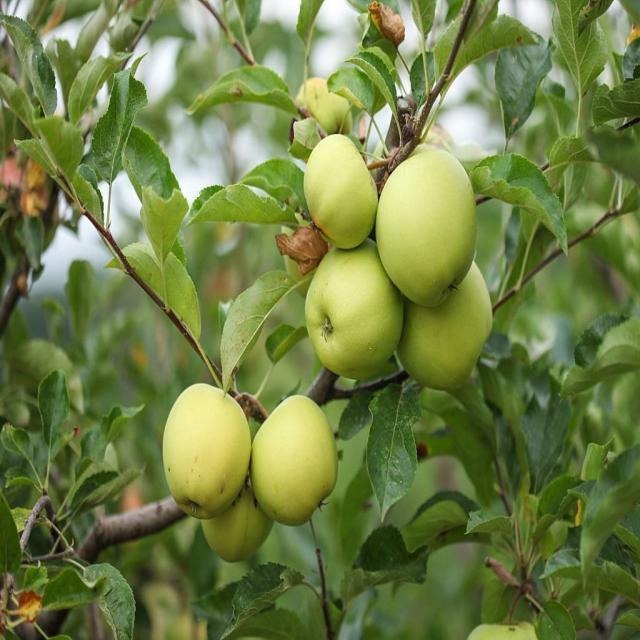Green Apple: (383, 147, 478, 304), (308, 241, 407, 378), (164, 380, 256, 512), (397, 253, 494, 377), (255, 394, 338, 522), (203, 444, 275, 556), (307, 133, 380, 240), (299, 75, 353, 152)
